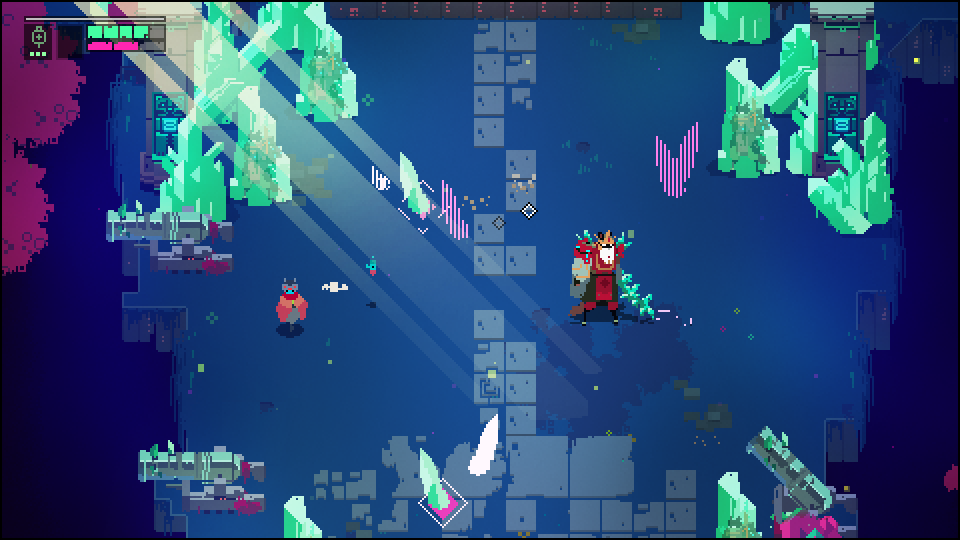hanged_crys: (647, 122, 699, 202), (413, 447, 446, 515), (468, 409, 499, 479), (396, 154, 428, 216)
hanged_man: (574, 232, 659, 324)
player: (274, 279, 309, 335)
